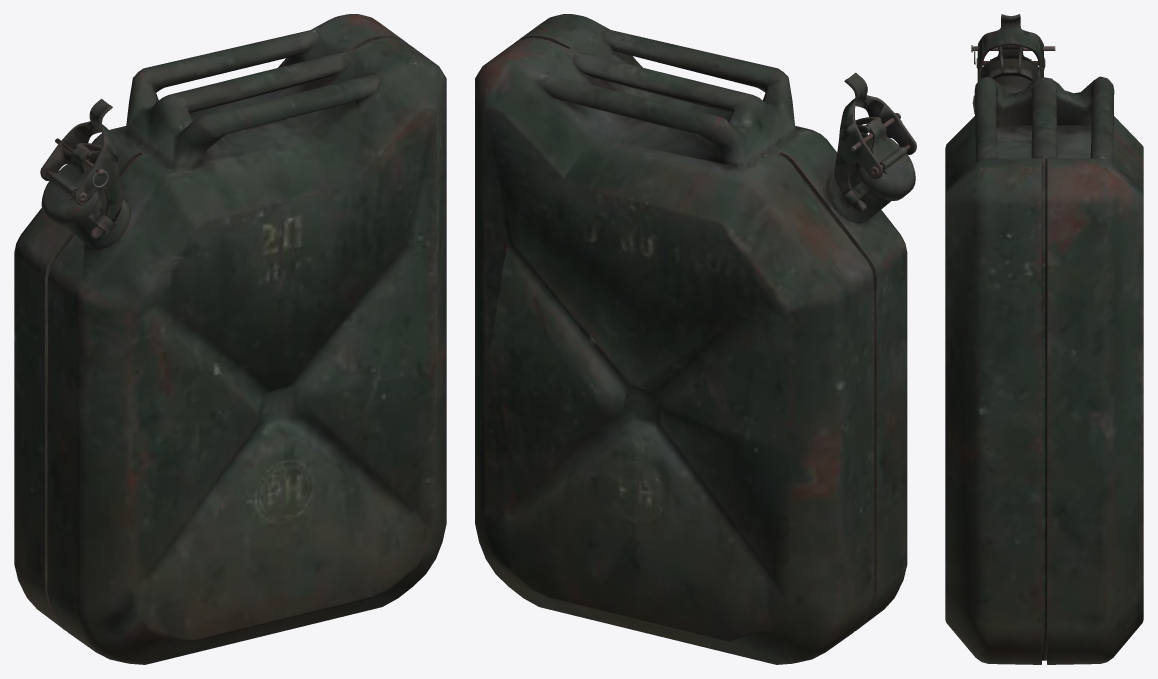
Rendered from jerrycan.glb.
3 views of the same model, side by side, from view 1: azimuth 30°, elevation 25°; view 2: azimuth 150°, elevation 25°; view 3: azimuth 270°, elevation 25° (orthographic). The views are drawn at different scales.
Visible parts, largest first — view 1: metal_jerrycan_green_body, metal_jerrycan_green_latch, metal_jerrycan_green_cap; view 2: metal_jerrycan_green_body, metal_jerrycan_green_latch, metal_jerrycan_green_cap; view 3: metal_jerrycan_green_body, metal_jerrycan_green_latch, metal_jerrycan_green_cap, metal_jerrycan_green_fastener.
Part boxes in pixels (box(x1,y1,x2,y2)): metal_jerrycan_green_body: box(14, 14, 446, 664); metal_jerrycan_green_latch: box(40, 98, 122, 238); metal_jerrycan_green_cap: box(41, 144, 101, 227); metal_jerrycan_green_body: box(475, 14, 907, 664); metal_jerrycan_green_latch: box(834, 72, 916, 212); metal_jerrycan_green_cap: box(855, 118, 915, 200); metal_jerrycan_green_body: box(945, 75, 1143, 664); metal_jerrycan_green_latch: box(976, 14, 1045, 81); metal_jerrycan_green_cap: box(981, 45, 1040, 79); metal_jerrycan_green_fastener: box(989, 46, 1032, 81).
Size of the model in its own units: 0.3604 by 0.4999 by 0.1709.
1 material, 1 textured.
